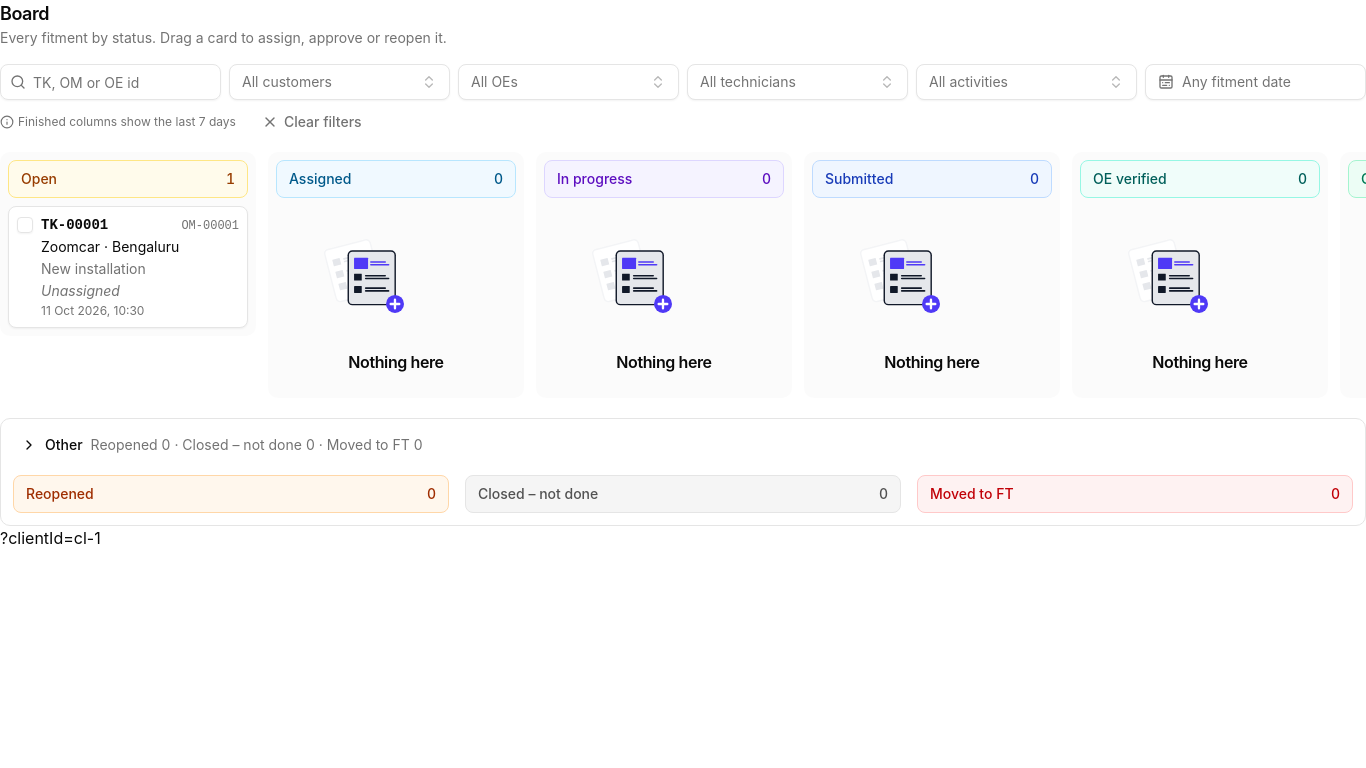
Test: board filters › writes the filters to the URL and sends them to the API
This screenshot has width=1366, height=768.
Expected: the text "TK-00001" is shown, x1=41 y1=215 x2=108 y2=235
Click the dropdown named "Filter by technician" at [798, 82], box x1=687 y1=64 x2=908 y2=100
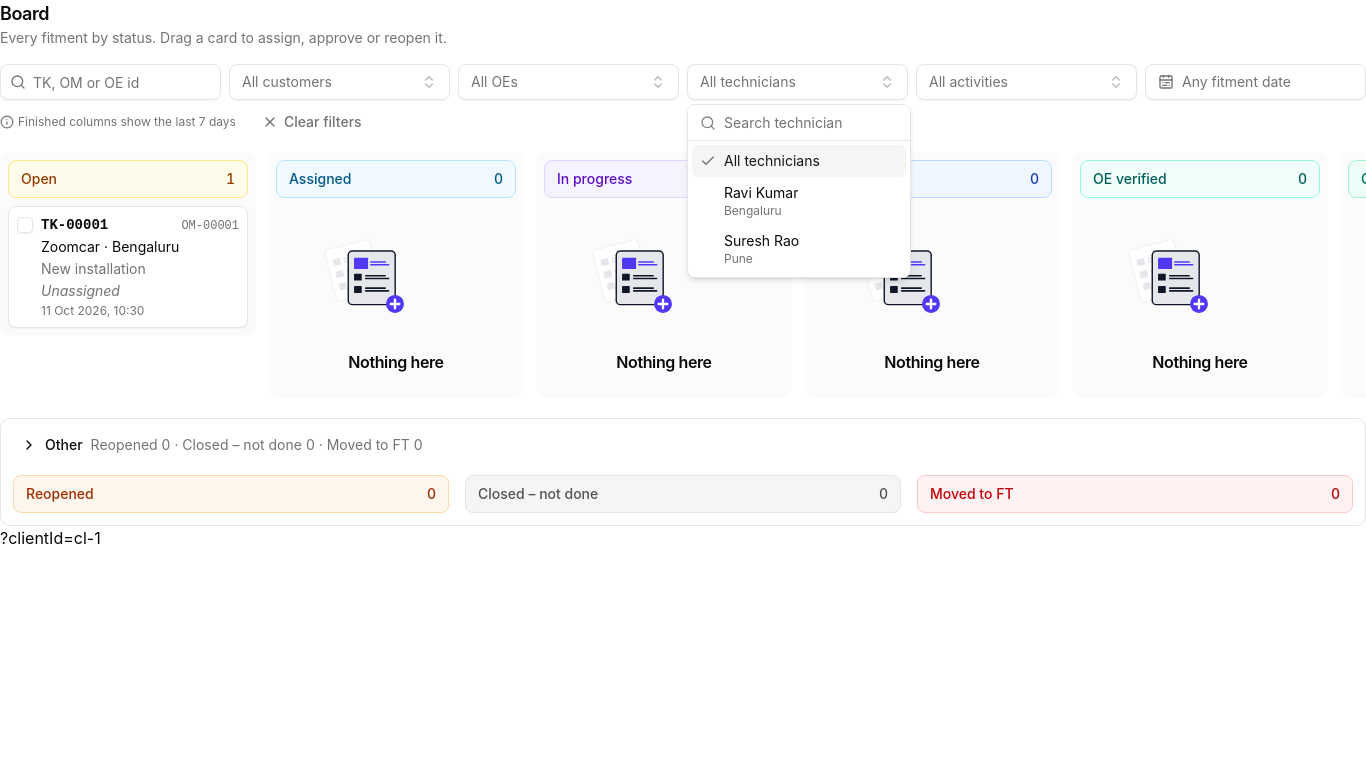
Click the option "Suresh Rao Pune" at [762, 249], box x1=724 y1=232 x2=799 y2=266
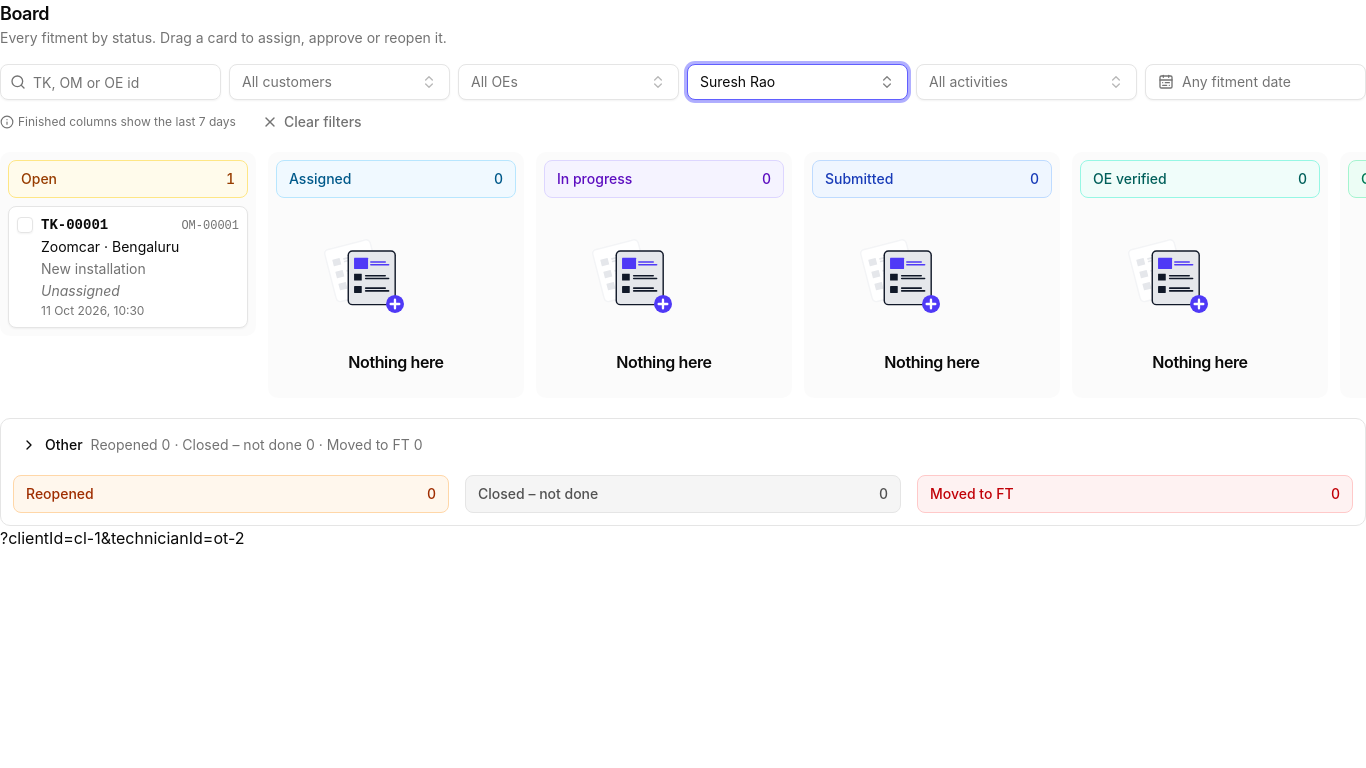
Result: the text with test id "location" shows "clientId=cl-1&technicianId=ot-2" at x1=0 y1=528 x2=244 y2=548
Type "TK-12" into the field named "Search by TK, OM or OE id" at [110, 82], box x1=0 y1=64 x2=221 y2=100
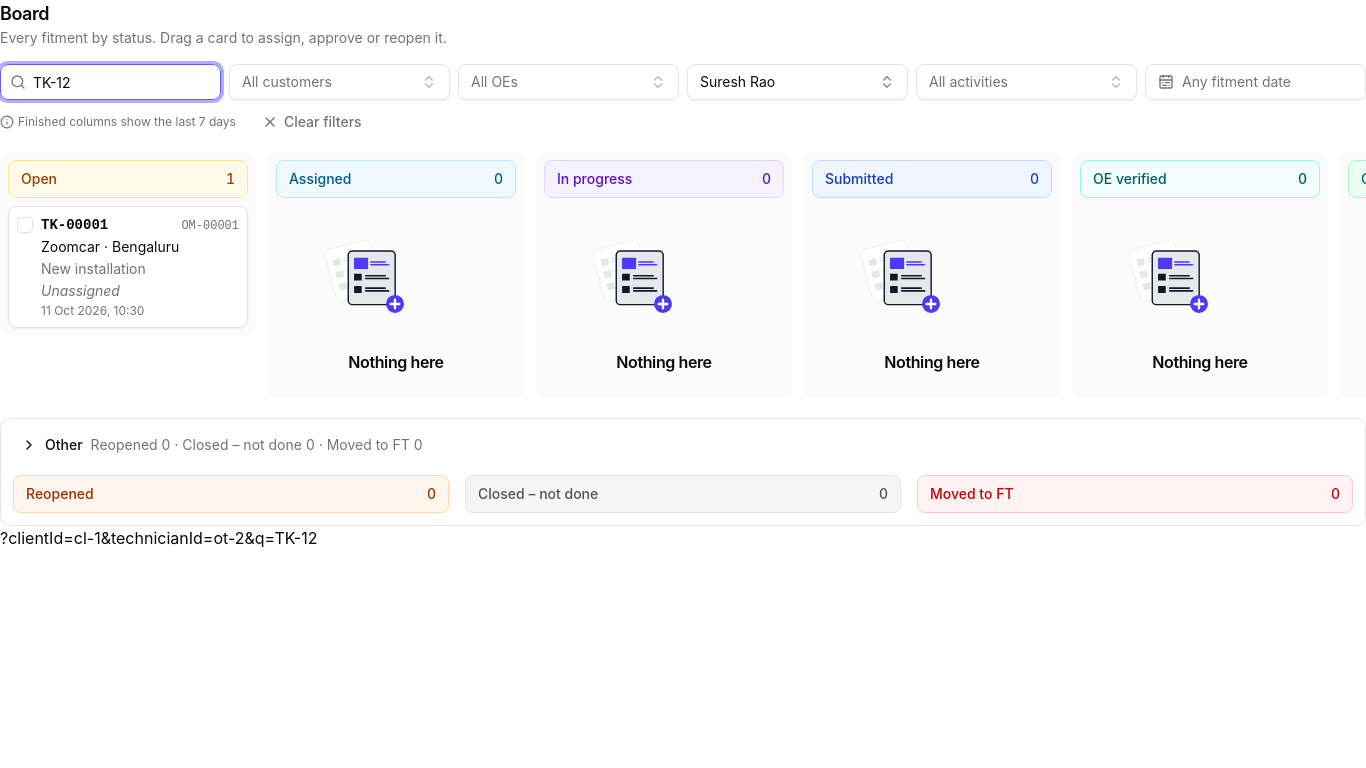
Result: the text with test id "location" shows "q=TK-12" at x1=0 y1=528 x2=318 y2=548
Click the button "Clear filters" at [312, 122], box x1=252 y1=108 x2=372 y2=136
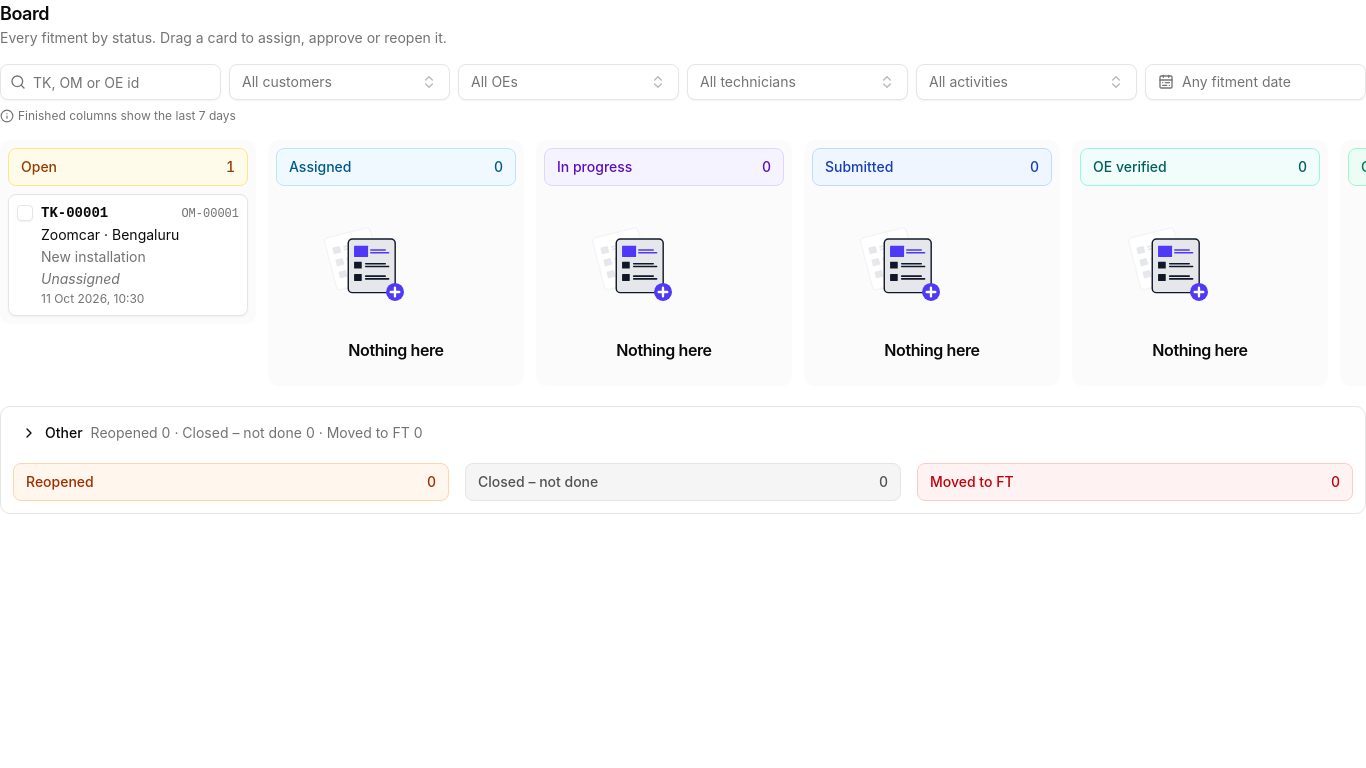
Result: the field named "Search by TK, OM or OE id" is empty at x1=0 y1=64 x2=221 y2=100
